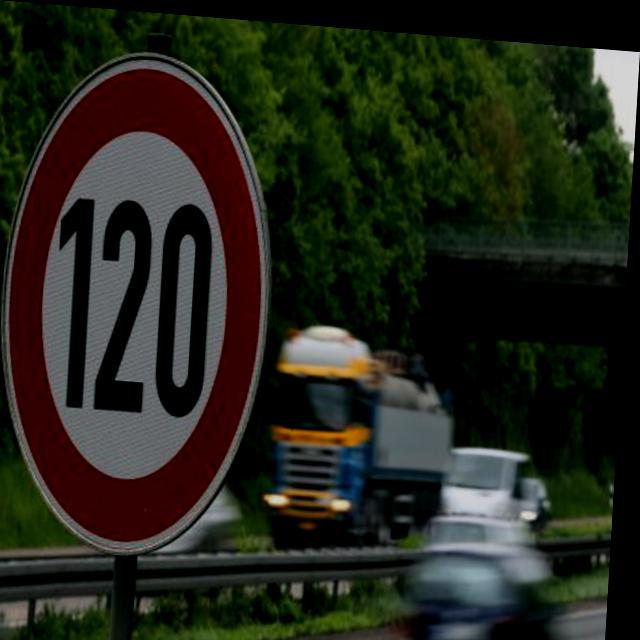limit120: (0, 36, 287, 570)
